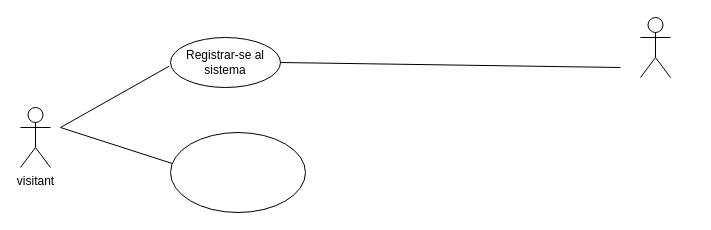
The diagram is 711 pixels wide and 230 high, and some of its shapes have lost their labels. Each missing label, with the box of its shape:
Consultar Plats/Menus (versió sense estar registrat): (170, 132, 306, 212)
Gmail/Outlook: (640, 16, 670, 78)
